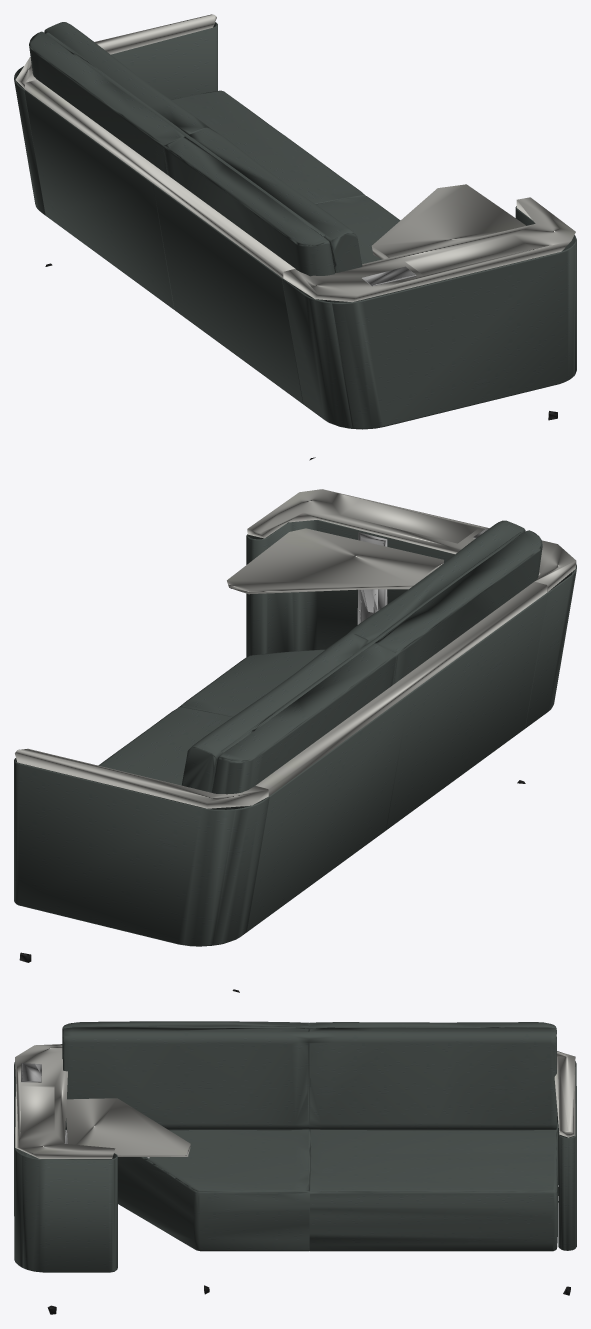
Rendered from sofa.glb.
3 views of the same model, one above another, from view 1: azimuth 30°, elevation 25°; view 2: azimuth 150°, elevation 25°; view 3: azimuth 270°, elevation 25° (orthographic). The views are drawn at different scales.
Visible parts, largest first — view 1: body; view 2: body; view 3: body.
Boxes of the visible parts, x1,y1,x2,y2 form: body: (14,14,576,460); body: (14,489,576,992); body: (14,1021,576,1314).
Bounding box in the file's own units: 1.02 × 0.8483 × 2.18.
4 materials, 4 textured.
